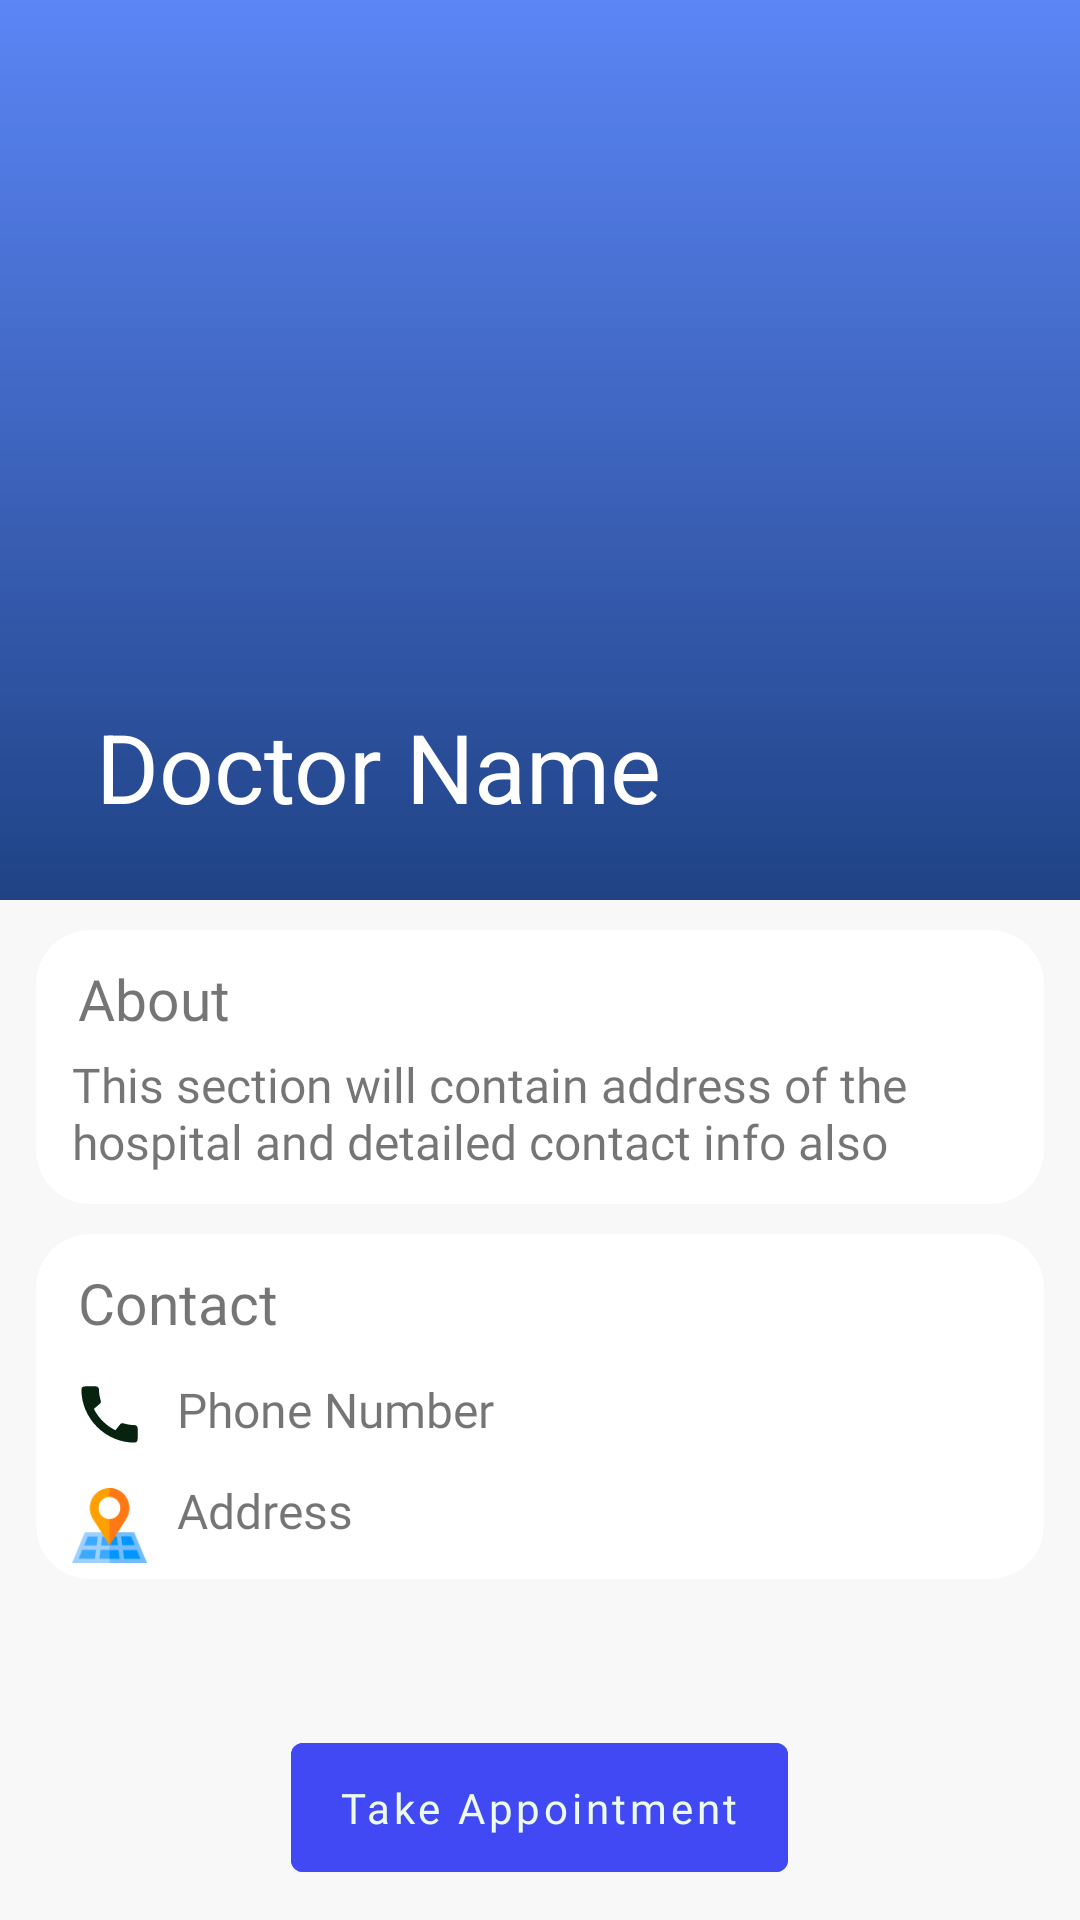

Screen size 1080px×1920px. Icon name, then its center in pixels as (x=x, y=y):
call: (x=109, y=1414)
